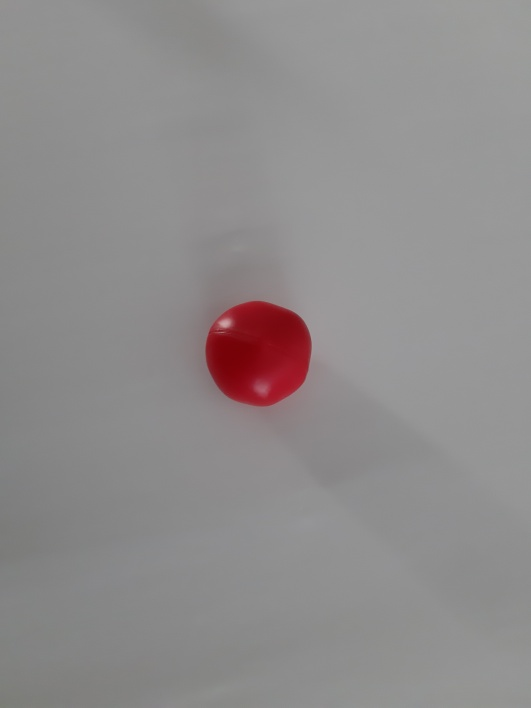tomato: (195, 292, 325, 424)
